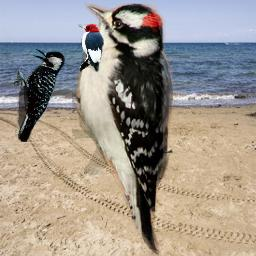Woodpecker: (72, 3, 173, 256), (11, 47, 67, 142), (78, 22, 104, 73)
